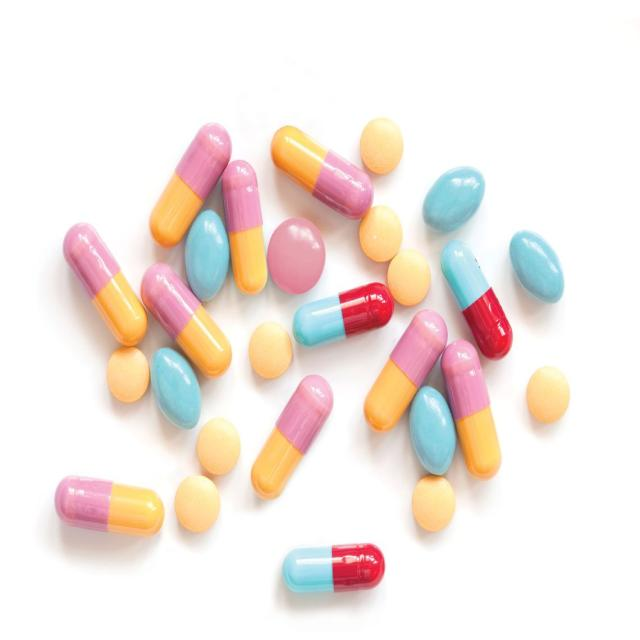Kapsel: (62, 223, 148, 346), (251, 375, 334, 499), (364, 310, 448, 432), (141, 264, 231, 377), (149, 123, 231, 247), (271, 126, 374, 219), (441, 241, 512, 360), (441, 341, 501, 479), (55, 475, 165, 535), (292, 283, 394, 346), (221, 161, 268, 295), (282, 544, 385, 592), (150, 347, 201, 429), (185, 210, 230, 301), (422, 167, 485, 232), (410, 387, 456, 475), (510, 233, 564, 303)
Piller: (268, 218, 325, 293), (175, 475, 220, 532), (106, 346, 150, 402), (360, 118, 404, 174), (249, 321, 292, 378), (359, 205, 402, 262), (388, 249, 431, 306), (198, 418, 240, 475), (528, 367, 570, 423), (414, 477, 455, 530)
